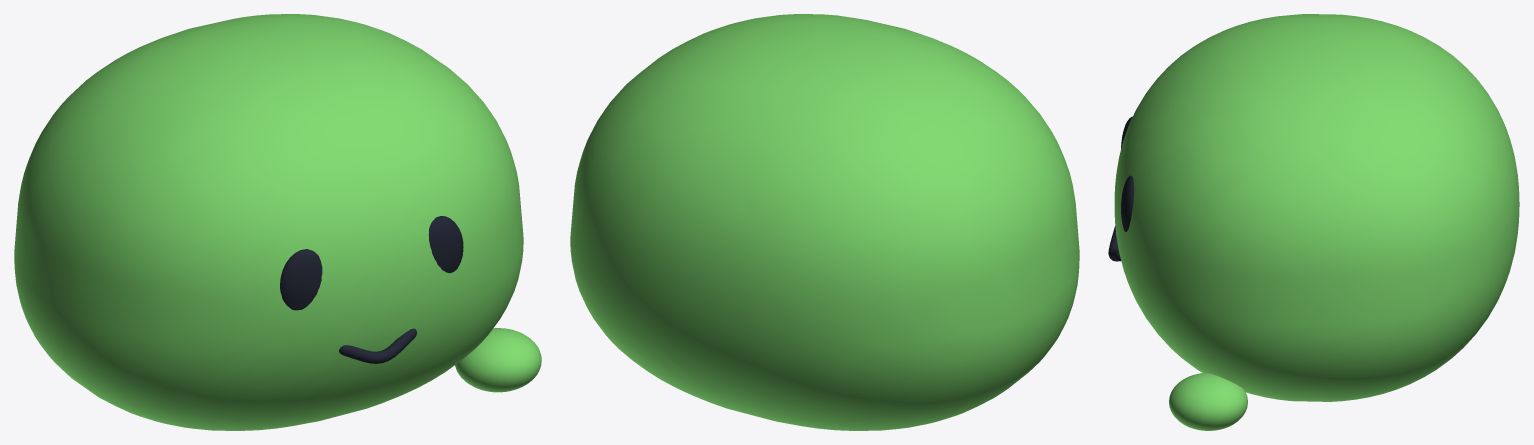
The model's file is deco_slime.glb.
The picture shows the model from 3 angles, left to right: view 1: azimuth 30°, elevation 25°; view 2: azimuth 150°, elevation 25°; view 3: azimuth 270°, elevation 25°; orthographic projection. The views are drawn at different scales.
Visible parts, largest first — view 1: slime.001, gota.001, ojo slime -1.001, ojo slime 1.001, boca slime.001; view 2: slime.001; view 3: slime.001, gota.001, ojo slime 1.001.
Part boxes in pixels (<box>): slime.001: <box>14,14,523,430</box>; gota.001: <box>455,328,541,392</box>; ojo slime -1.001: <box>280,249,322,310</box>; ojo slime 1.001: <box>428,216,463,273</box>; boca slime.001: <box>339,328,416,363</box>; slime.001: <box>570,14,1079,430</box>; slime.001: <box>1114,14,1519,401</box>; gota.001: <box>1169,373,1247,430</box>; ojo slime 1.001: <box>1121,175,1134,231</box>.
Bounding box in the file's own units: 0.3436 × 0.2491 × 0.3032.
